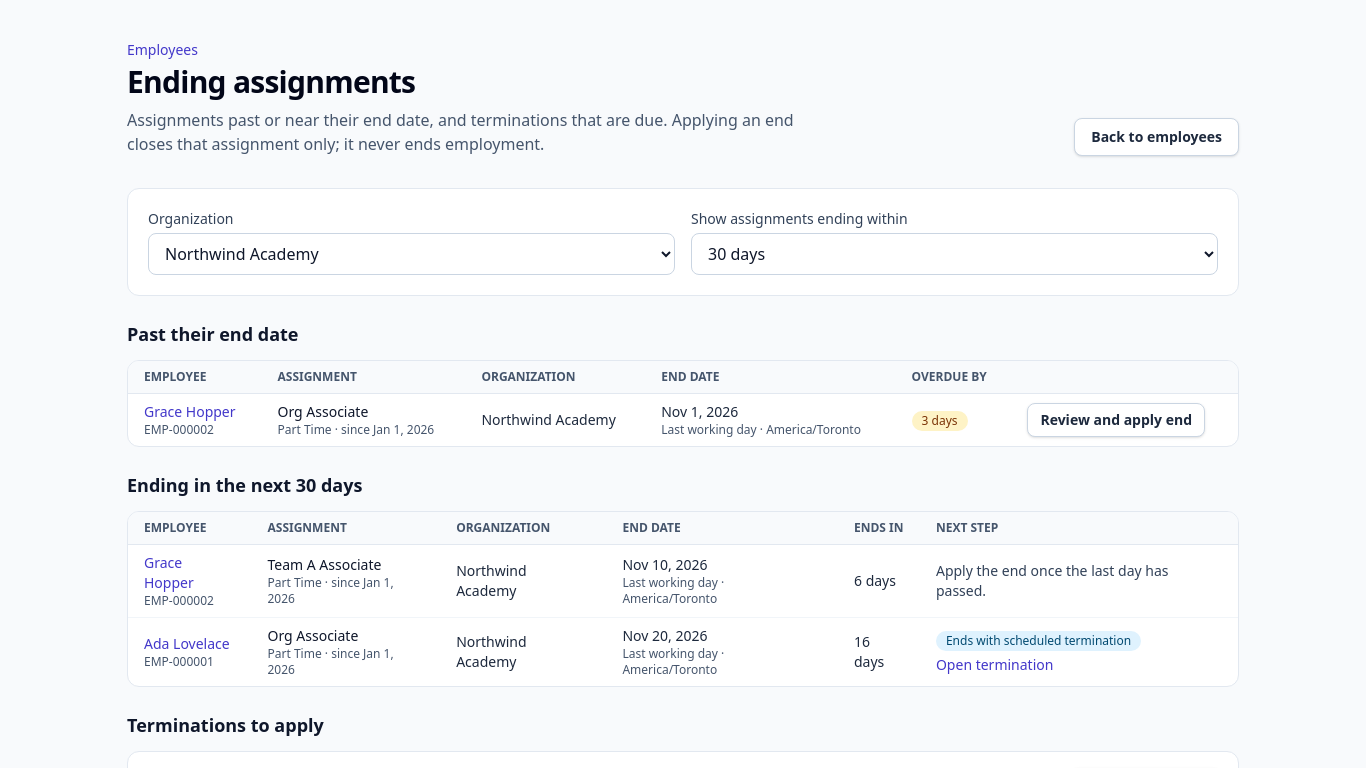
Test case: LifecycleDuePage (R4-A.1) › keeps the dialog open with the API refusal
The width and height of the screenshot is (1366, 768).
Click the button "Review and apply end" at (1116, 420), box [1027, 403, 1205, 437]
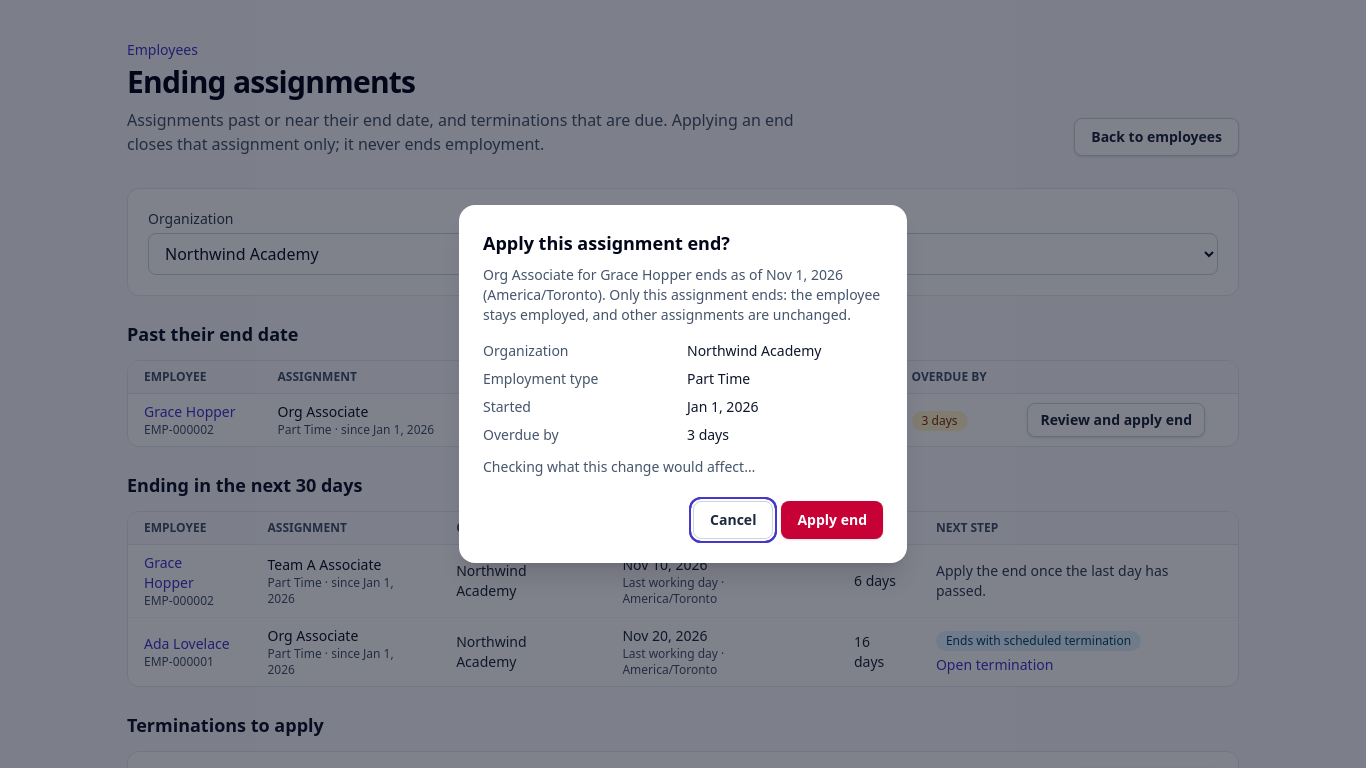
Click the button "Apply end" at (832, 520), box [781, 501, 883, 539]
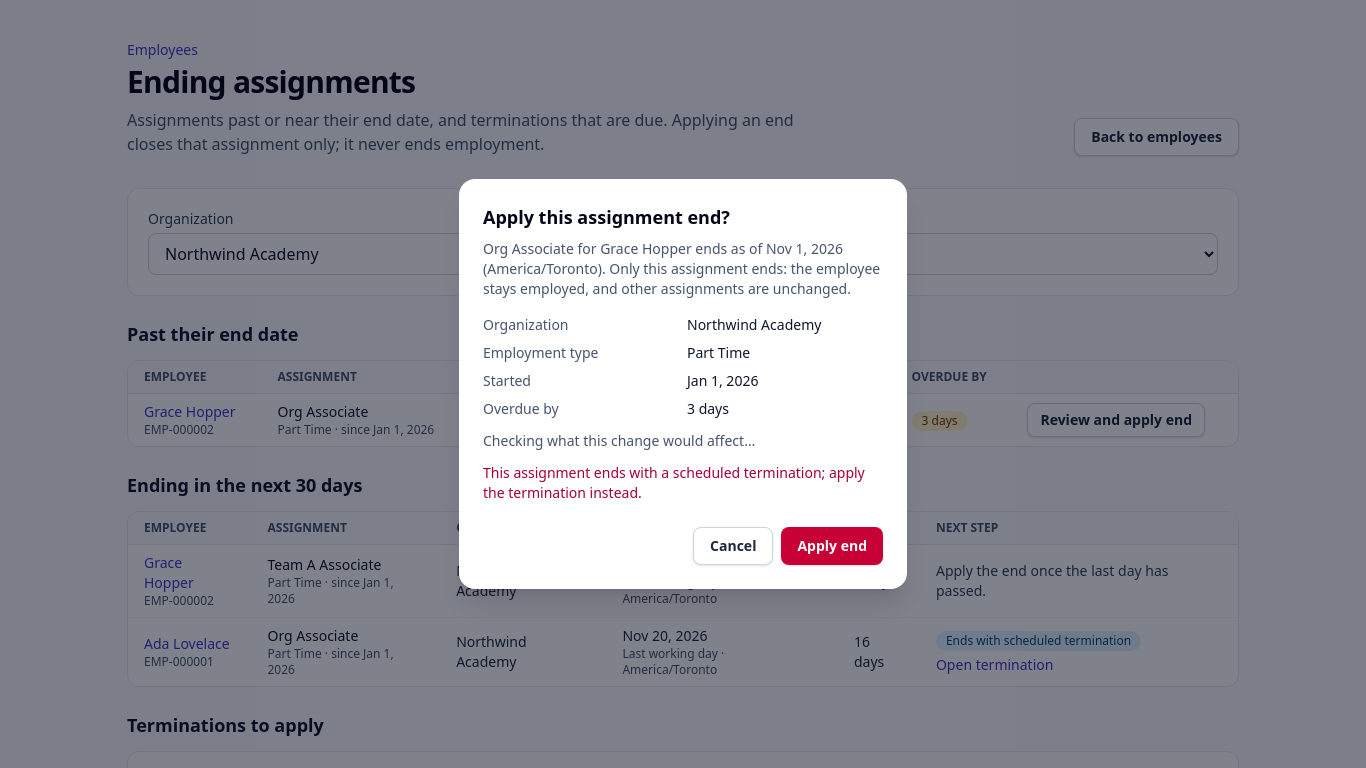
Now the dialog is shown, box [459, 179, 907, 589]
Now the 2nd message shows "apply the termination instead", box [483, 463, 865, 502]
